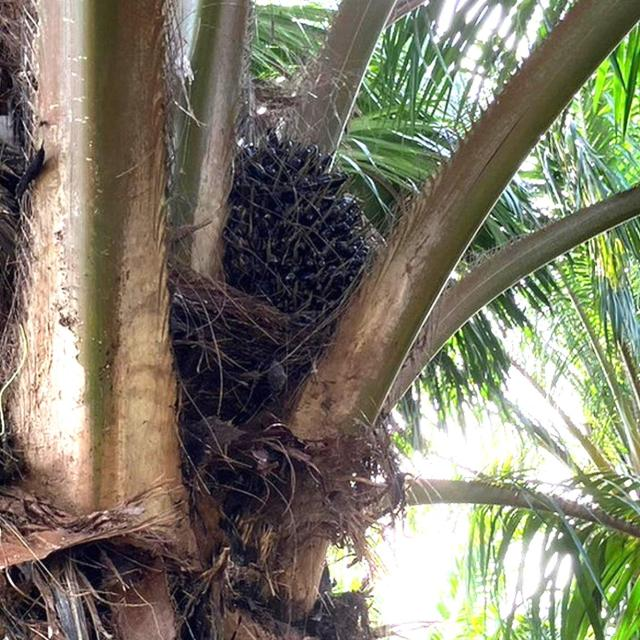unripe: (212, 121, 385, 323)
